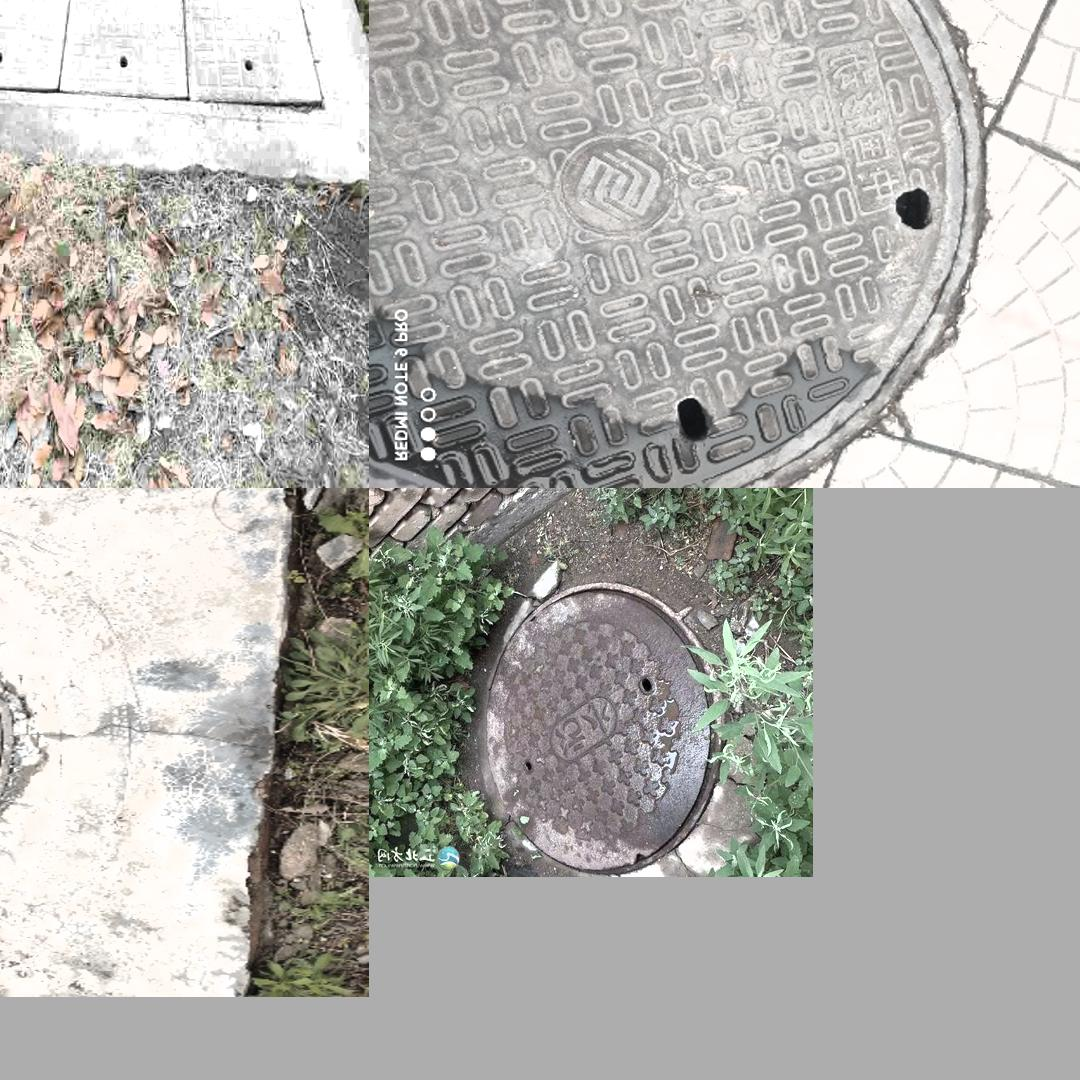good: (378, 0, 986, 488), (471, 578, 727, 873), (0, 0, 337, 121), (0, 581, 9, 880)
